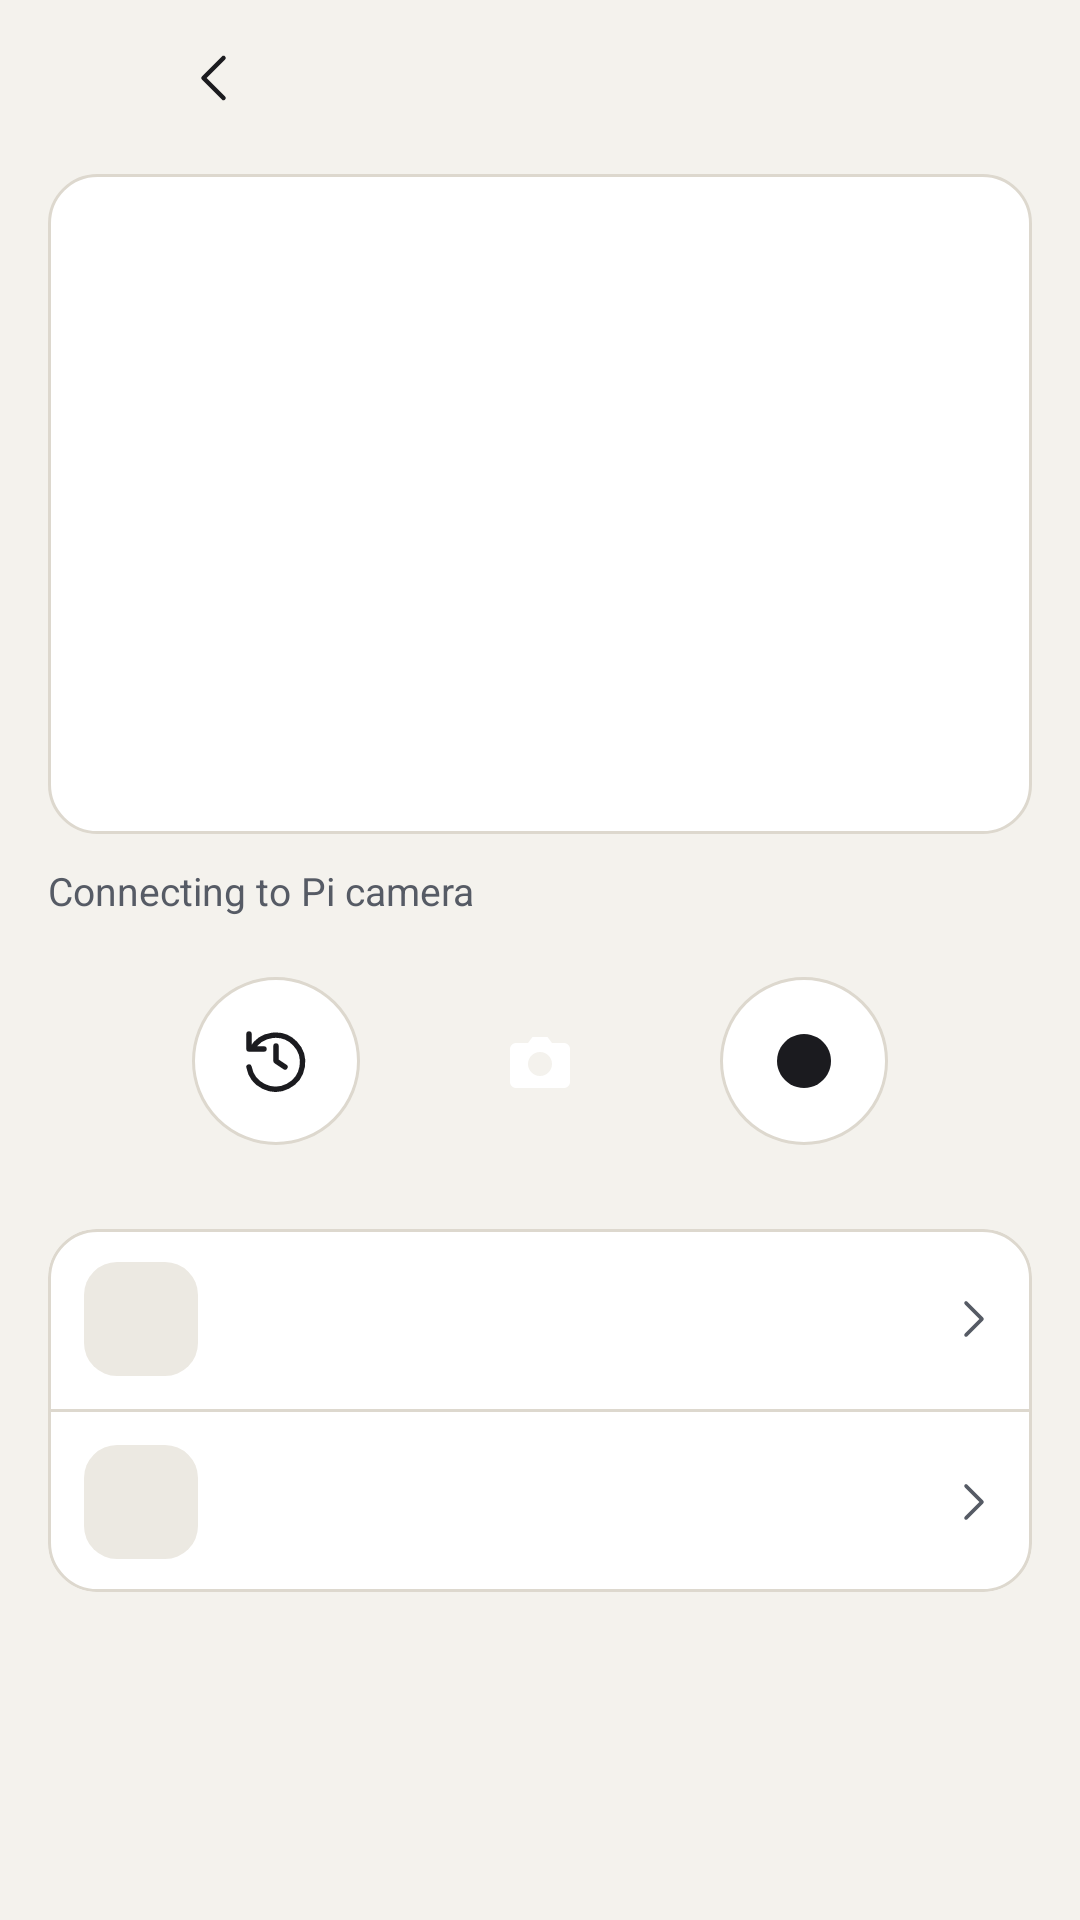

Named icons in this screenshot (1080x1920) and their bounding boxes, Rect(x1, y1, x2, y2):
Back: Rect(201, 55, 226, 101)
Open captures: Rect(192, 977, 360, 1145)
Start recording: Rect(720, 977, 888, 1145)
